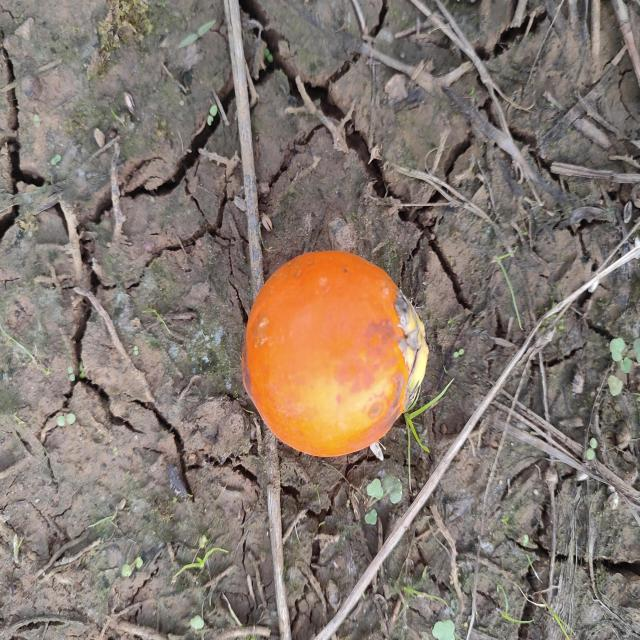good: (243, 251, 427, 460)
